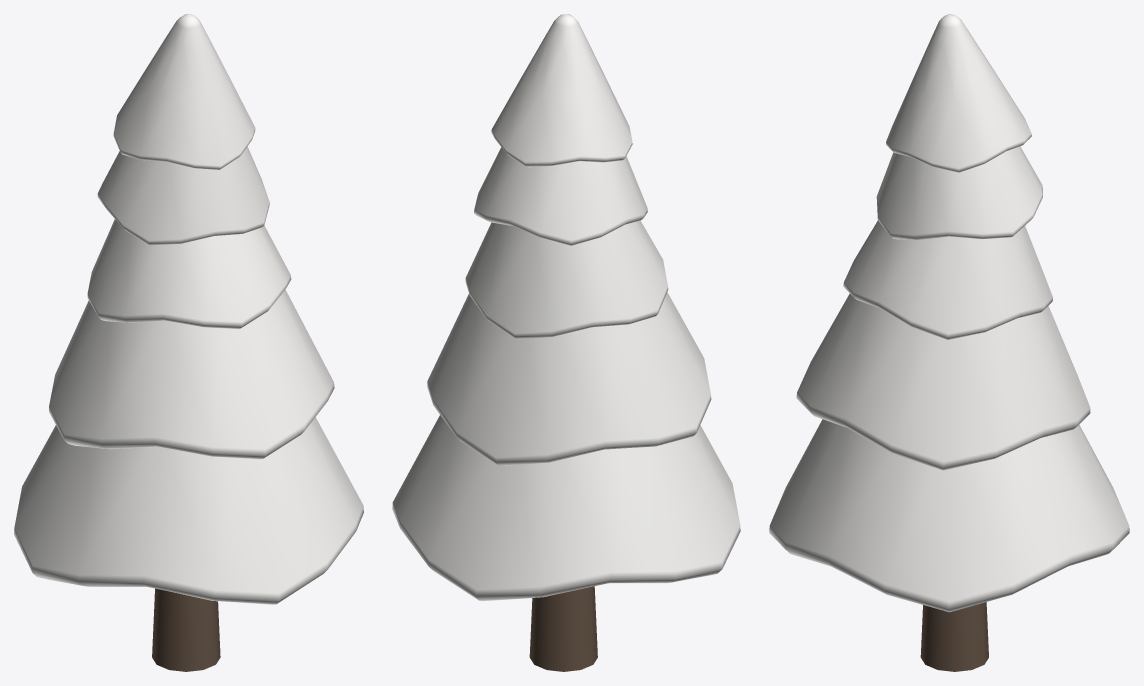
File: Tree_6.glb
3 views of the same model, side by side, from view 1: azimuth 30°, elevation 25°; view 2: azimuth 150°, elevation 25°; view 3: azimuth 270°, elevation 25° (orthographic).
Visible parts, largest first — view 1: Tree_6; view 2: Tree_6; view 3: Tree_6.
Boxes of the visible parts, left/top/right/bottom form: Tree_6: left=14, top=14, right=363, bottom=671; Tree_6: left=392, top=14, right=740, bottom=671; Tree_6: left=769, top=14, right=1129, bottom=671.
Size of the model in its own units: 0.839 by 1.65 by 0.839.
Materials: 1 (1 with a texture image).
